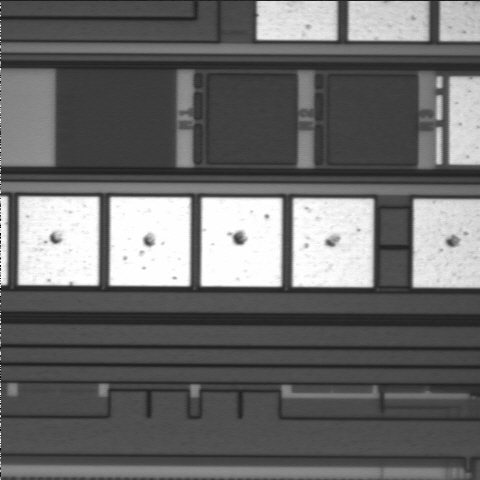pad: (109, 197, 191, 286), (292, 198, 374, 287), (18, 197, 99, 286), (201, 198, 282, 287)
